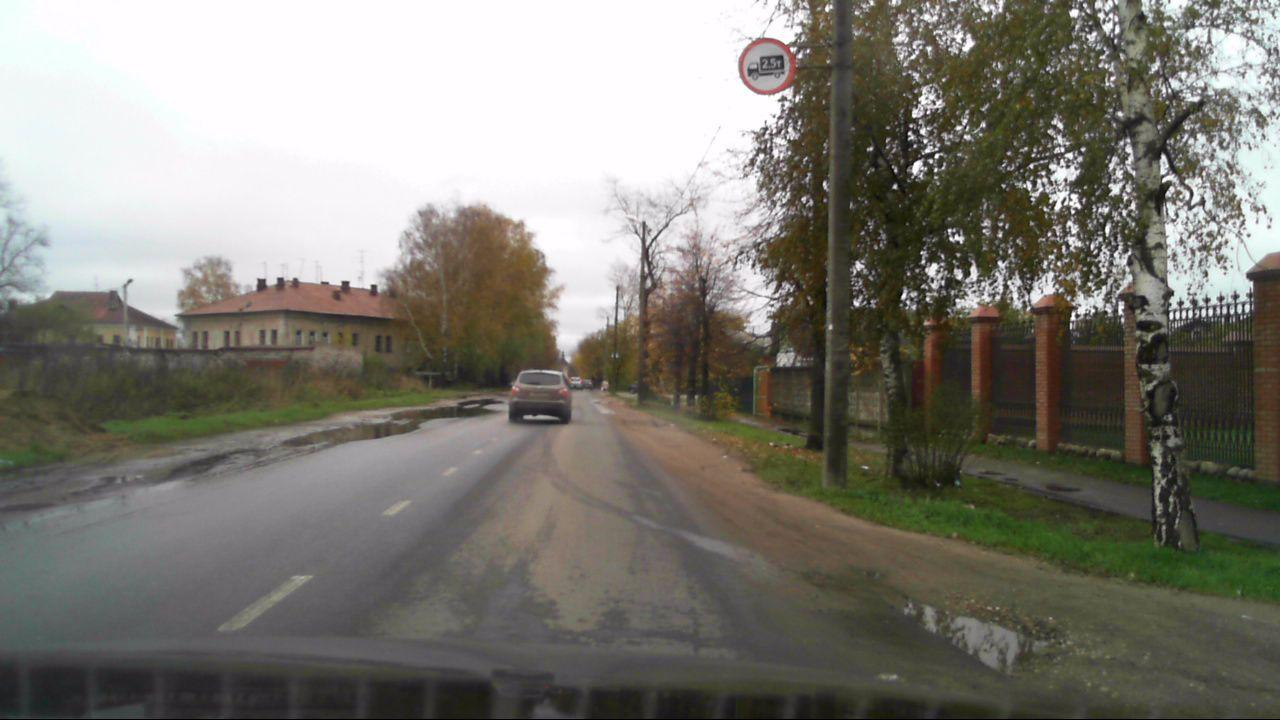3_4: (737, 39, 795, 97)
